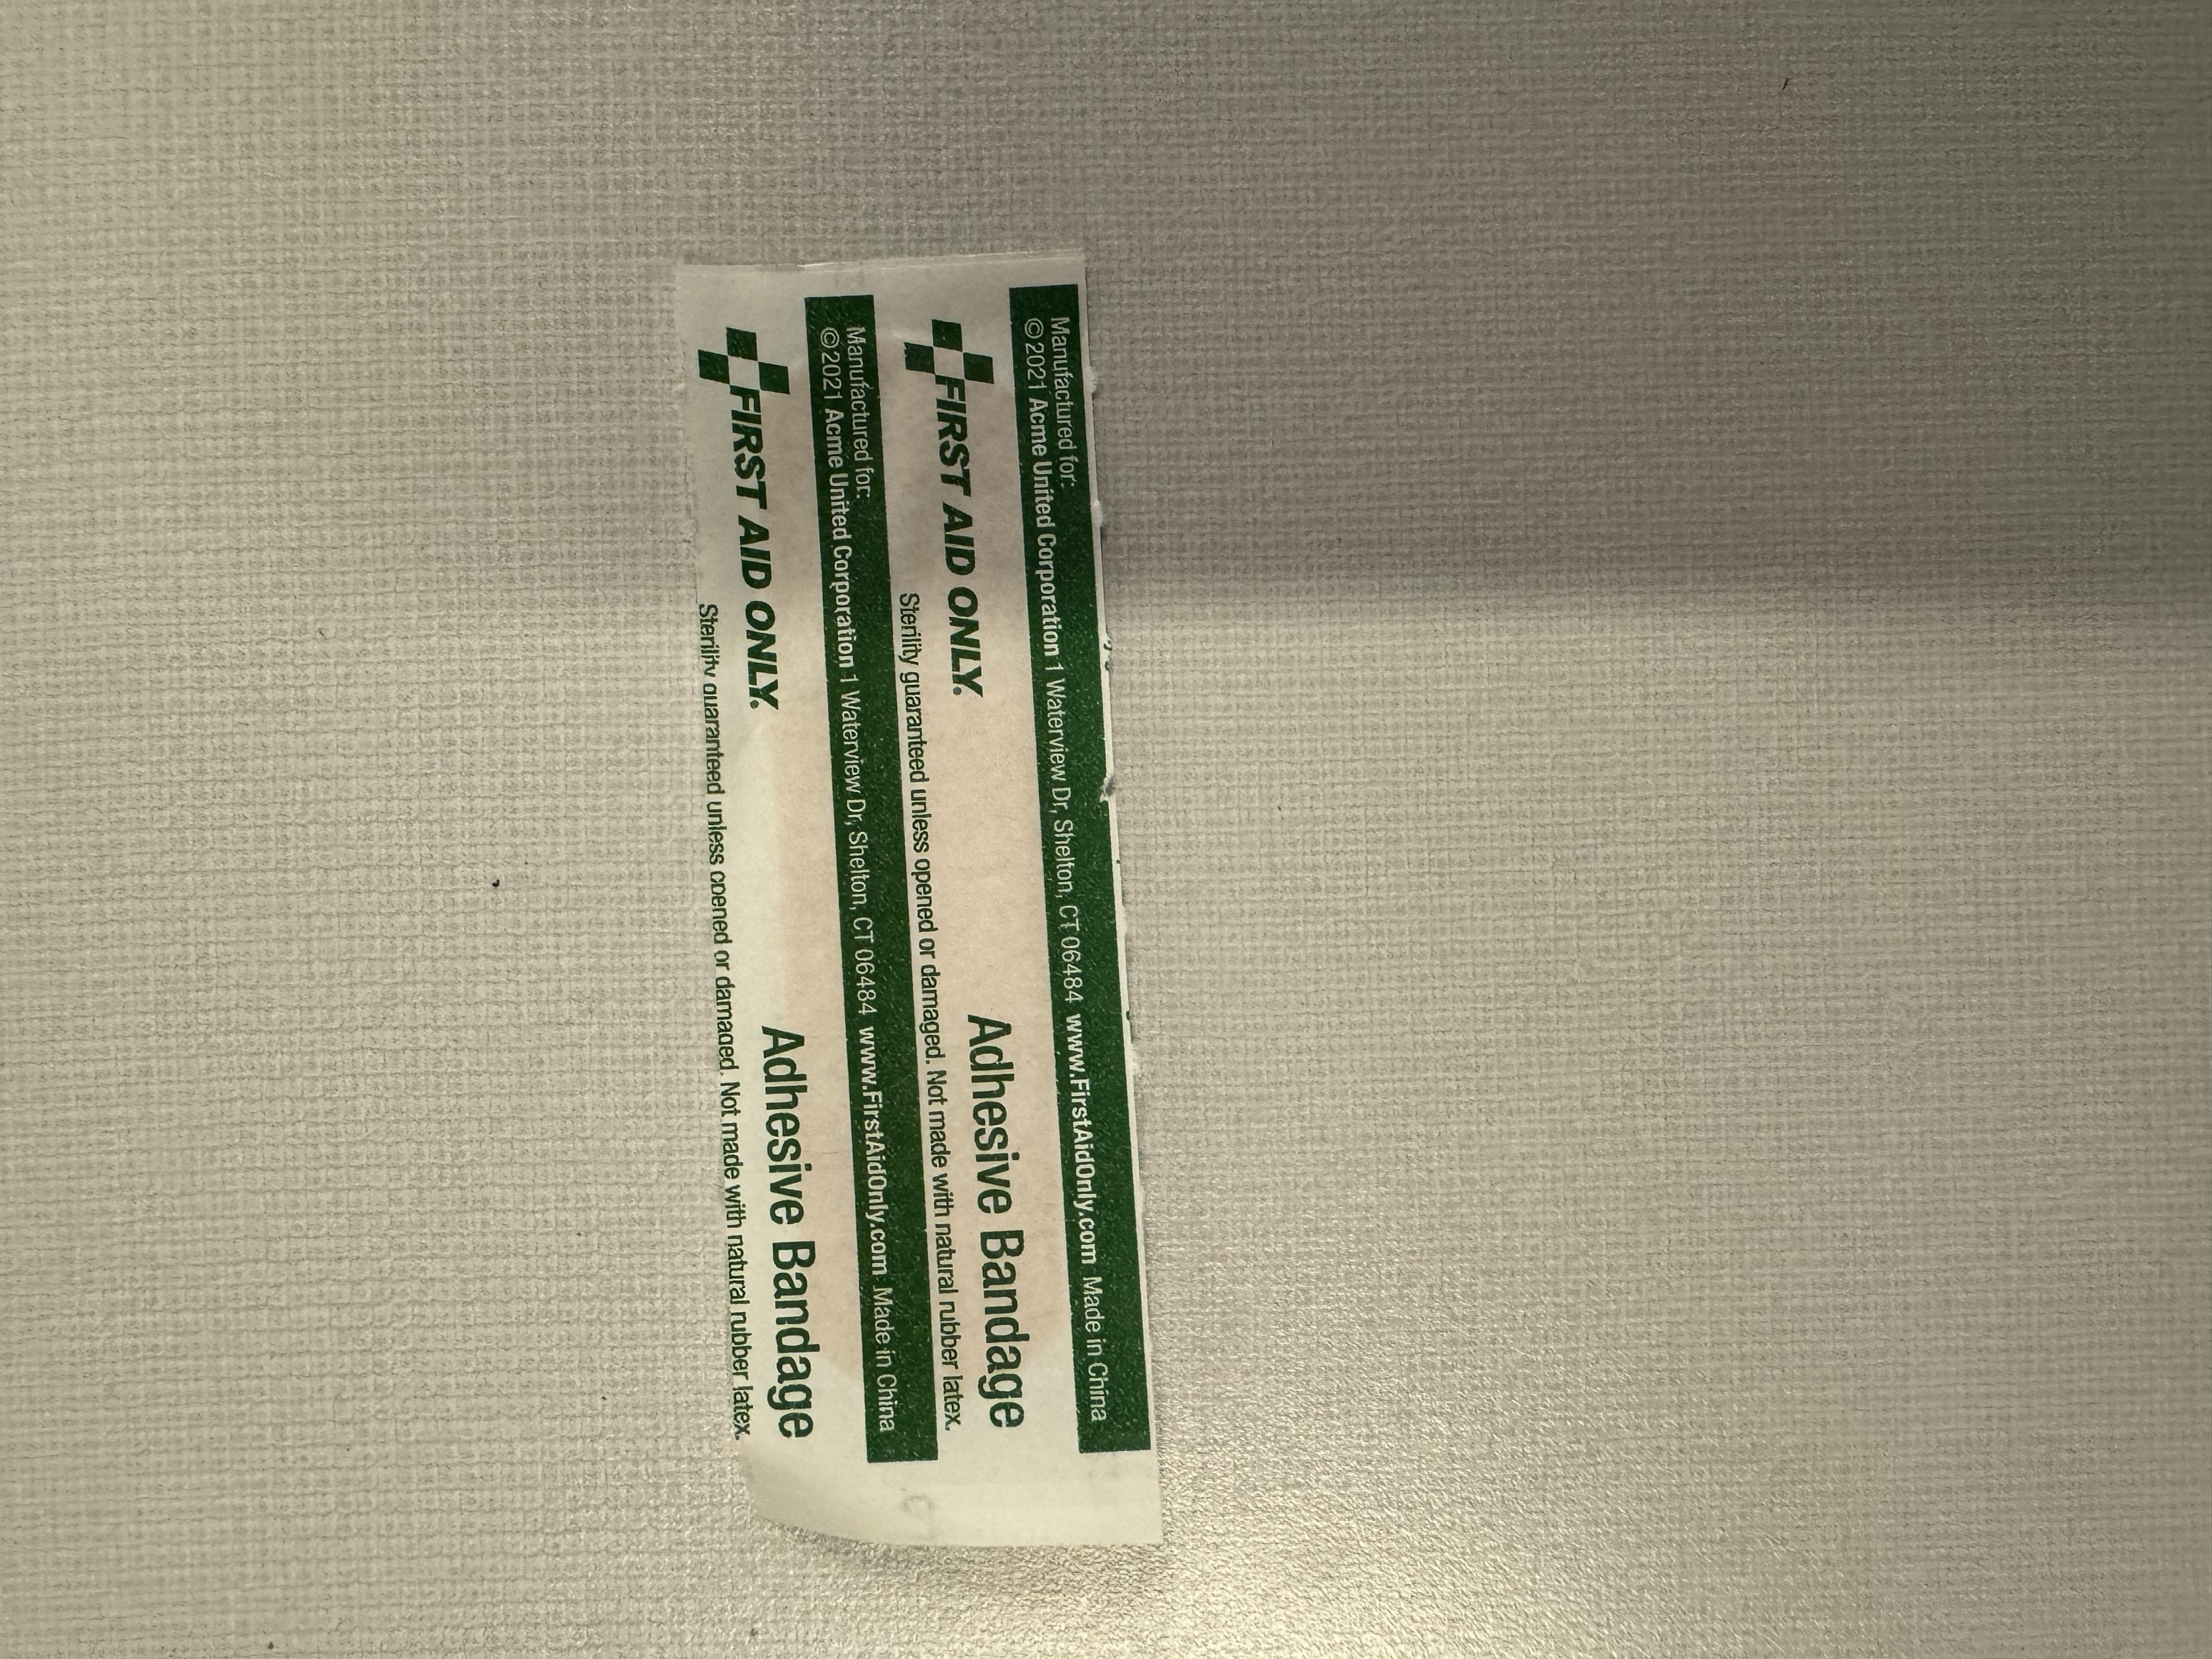bandage: (954, 54, 1686, 1520)
